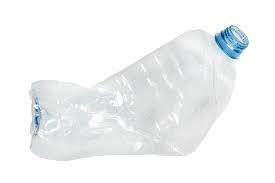plastic: (30, 26, 244, 161)
